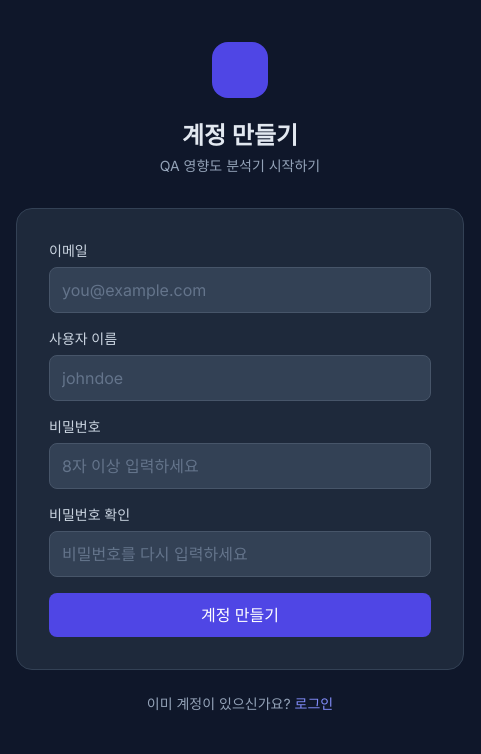
Test: C10 — RegisterPage › submit with empty email shows inline error
Type "validuser" into the field with test id "name-input". click: (240, 378)
box: [49,355,431,401]
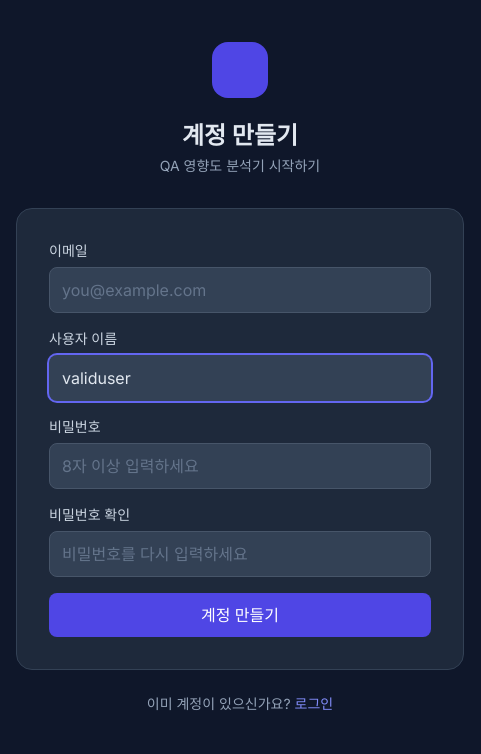
Type "Password1!" into the password field with test id "password-input". click: (240, 466)
box: [49,443,431,489]
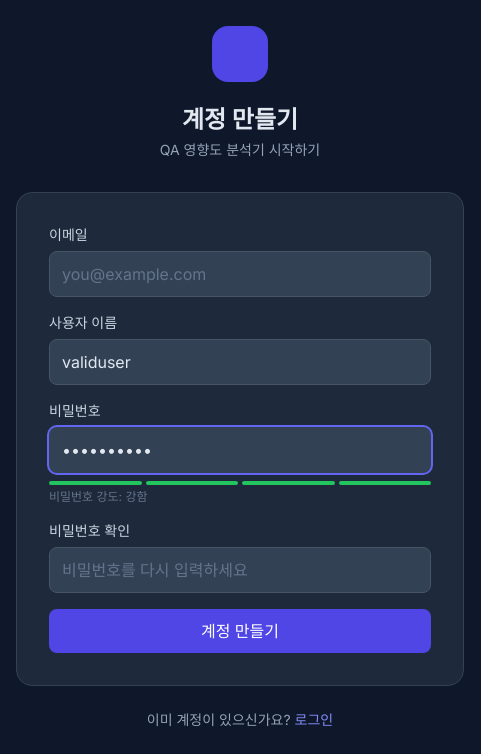
Type "Password1!" into the password field with test id "confirm-password-input". click: (240, 570)
box: [49,547,431,593]
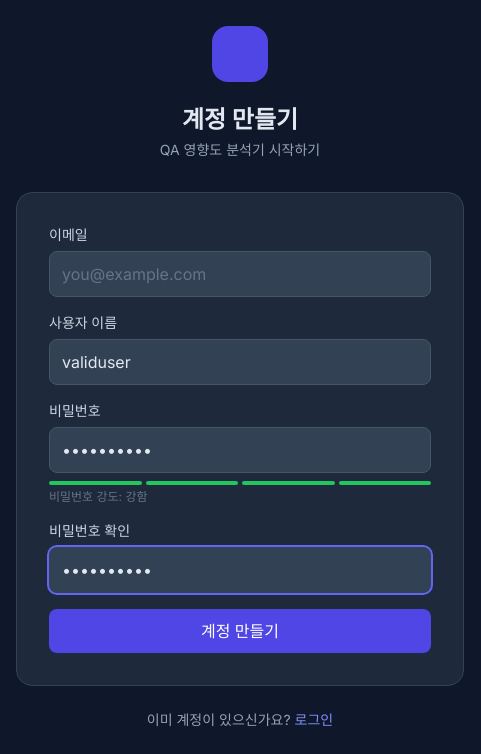
Click the button with test id "register-btn". click: (240, 631)
box: [49,609,431,653]
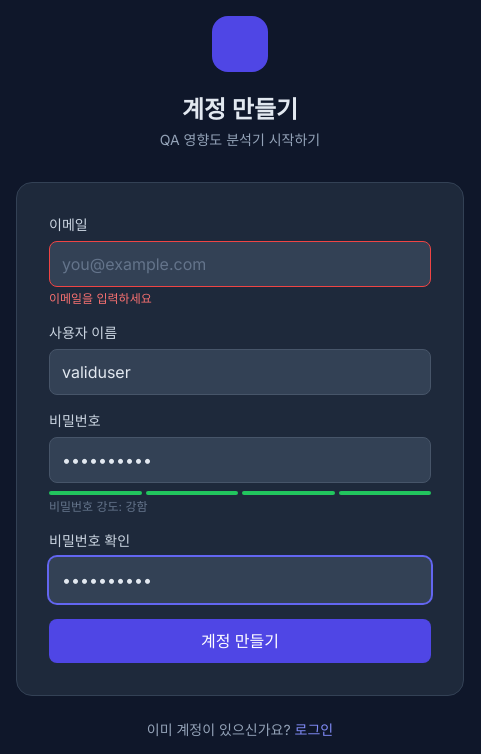
expect the text "이메일을 입력하세요" is shown: met, box [49,291,152,306]
